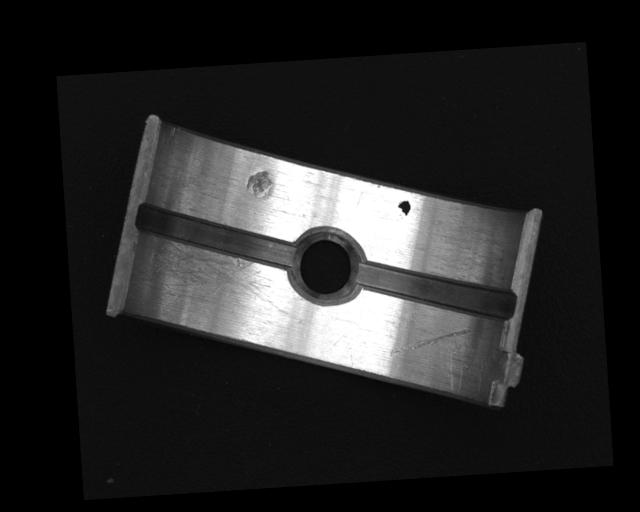blot: (396, 199, 412, 219)
bruise: (244, 169, 277, 201)
gap: (134, 195, 297, 278), (355, 250, 516, 330)
hole: (288, 229, 363, 304)
nick: (388, 327, 474, 356)
scratch: (133, 230, 289, 325)
